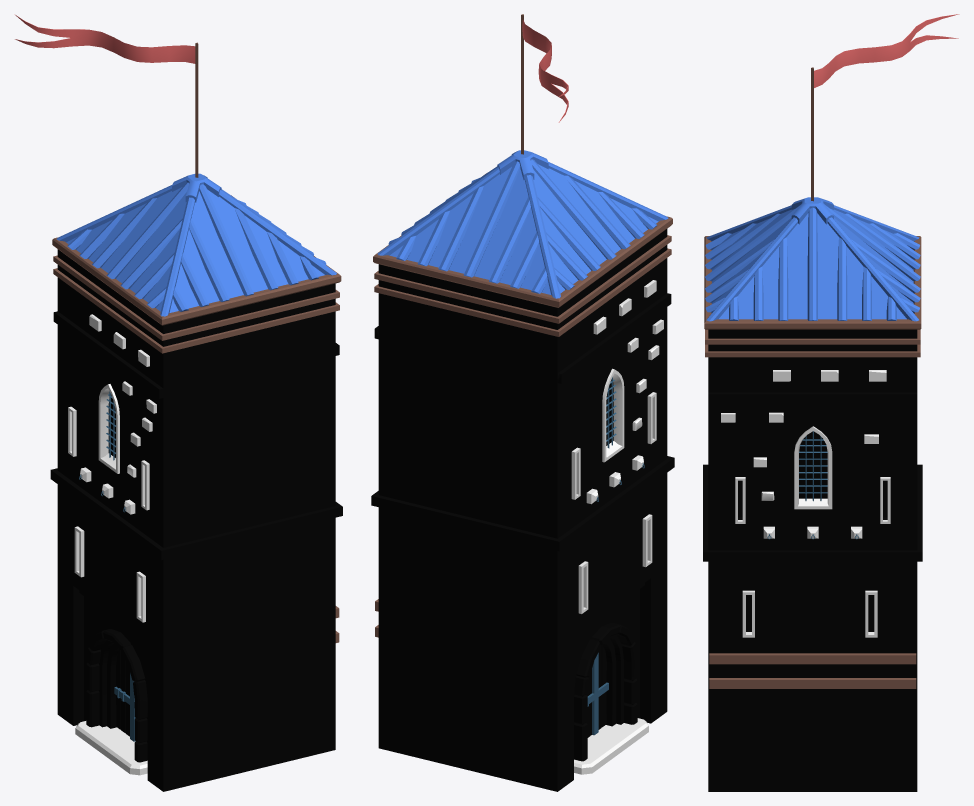
File: civilian_house_19.FBX
The picture shows the model from 3 angles, left to right: view 1: azimuth 30°, elevation 25°; view 2: azimuth 150°, elevation 25°; view 3: azimuth 270°, elevation 25°; orthographic projection. The views are drawn at different scales.
Visible parts, largest first — view 1: civilian_house_19_LOD0; view 2: civilian_house_19_LOD0; view 3: civilian_house_19_LOD0.
Part boxes in pixels (left/top/right/bottom): civilian_house_19_LOD0: left=14, top=14, right=342, bottom=791; civilian_house_19_LOD0: left=371, top=14, right=674, bottom=791; civilian_house_19_LOD0: left=703, top=14, right=959, bottom=791.
Size of what is drawn, in the model's own units: 655 by 2121 by 722.
